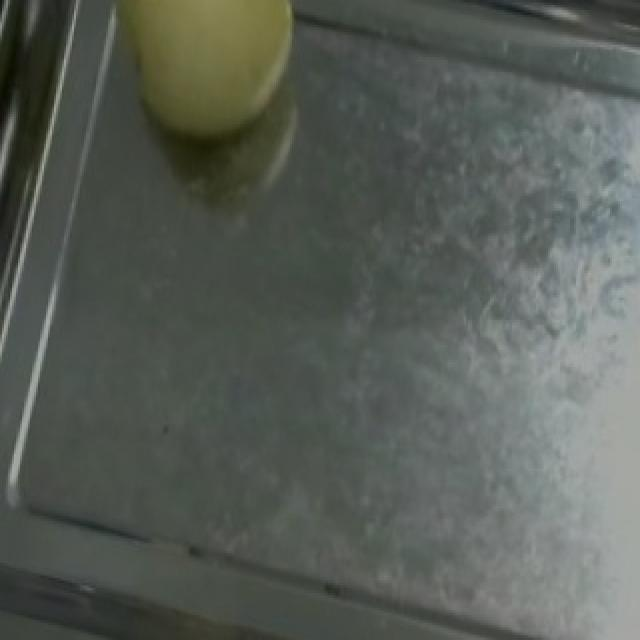Fruit: (88, 0, 330, 174)
